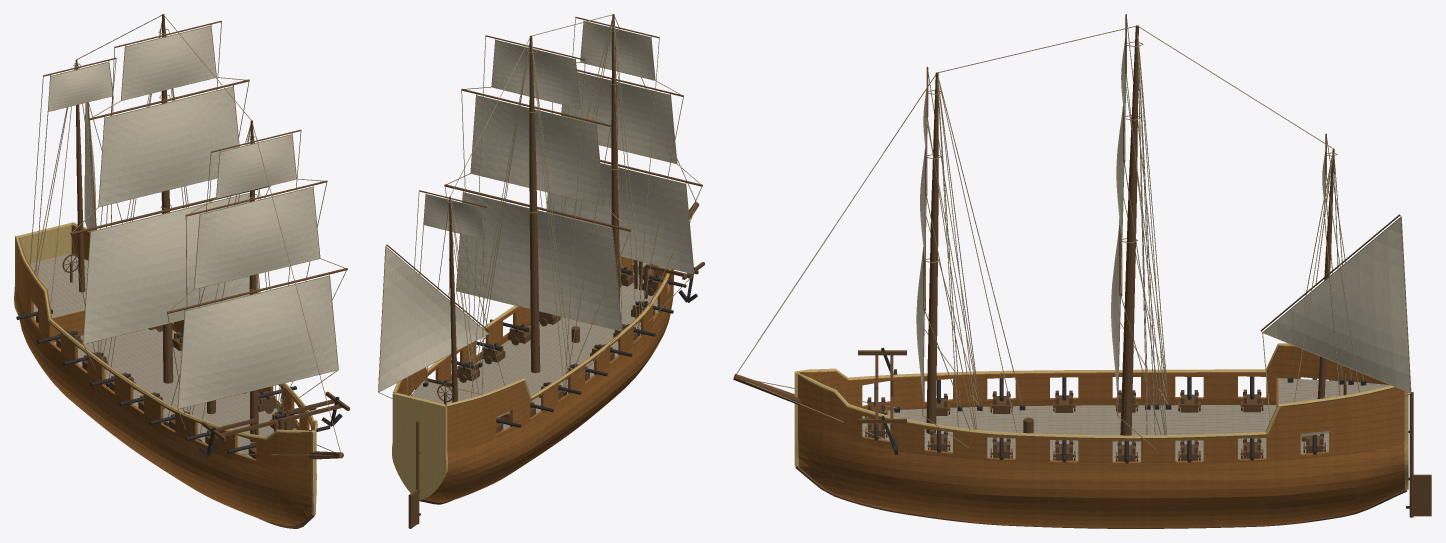
3 renders of one model, left to right at view 1: azimuth 30°, elevation 25°; view 2: azimuth 150°, elevation 25°; view 3: azimuth 270°, elevation 25°, orthographic. The views are drawn at different scales.
Visible parts, largest first — view 1: lod1_hull_shell_starboard, lod1_fore_square_00, lod1_main_square_00, lod1_main_square_01, lod1_fore_square_01, lod1_main_deck, lod1_main_square_02, lod1_fore_square_02, lod1_castle_deck_0, lod1_mizzen_square_00, lod1_stern_closure, lod1_gunwale_starboard (+11 smaller); view 2: lod1_hull_shell_starboard, lod1_main_square_00, lod1_main_square_01, lod1_fore_square_00, lod1_mizzen_lateen_01, lod1_main_deck, lod1_fore_square_01, lod1_stern_closure, lod1_main_square_02, lod1_fore_square_02, lod1_main, lod1_hull_shell_port (+14 smaller); view 3: lod1_hull_shell_port, lod1_mizzen_lateen_01, lod1_hull_shell_starboard, lod1_main_deck, lod1_main, lod1_fore, lod1_gunwale_port, lod1_castle_deck_0, lod1_gunwale_starboard, lod1_keel, lod1_main_square_00, lod1_mizzen (+1 smaller).
Part boxes in pixels (x1,y1,x2,y2): lod1_hull_shell_starboard: (16,238,311,526); lod1_fore_square_00: (178,276,337,408); lod1_main_square_00: (83,193,259,343); lod1_main_square_01: (99,87,238,206); lod1_fore_square_01: (194,187,319,288); lod1_main_deck: (33,303,296,457); lod1_main_square_02: (121,26,216,99); lod1_fore_square_02: (217,135,296,197); lod1_castle_deck_0: (29,253,88,317); lod1_mizzen_square_00: (48,62,112,111); lod1_stern_closure: (14,222,72,315); lod1_gunwale_starboard: (15,236,312,439); lod1_hull_shell_starboard: (423,268,673,502); lod1_main_square_00: (456,193,621,330); lod1_main_square_01: (471,96,603,205); lod1_fore_square_00: (547,164,693,273); lod1_mizzen_lateen_01: (378,247,487,391); lod1_main_deck: (451,273,668,430); lod1_fore_square_01: (561,73,676,163); lod1_stern_closure: (392,392,447,499); lod1_main_square_02: (492,40,580,108); lod1_fore_square_02: (580,22,654,79); lod1_main: (529,35,540,373); lod1_hull_shell_port: (396,256,638,395); lod1_hull_shell_port: (798,374,1405,528); lod1_mizzen_lateen_01: (1263,218,1410,392); lod1_hull_shell_starboard: (799,345,1388,410); lod1_main_deck: (862,405,1328,461); lod1_main: (1120,25,1138,435); lod1_fore: (926,72,938,433); lod1_gunwale_port: (797,373,1396,439); lod1_castle_deck_0: (1278,378,1390,436); lod1_gunwale_starboard: (797,343,1293,379); lod1_keel: (795,466,1407,528); lod1_main_square_00: (1111,225,1120,399); lod1_mizzen: (1317,148,1334,398).
Bounding box in the file's own units: 9.21 × 19.61 × 24.65.
7 materials, 7 textured.
